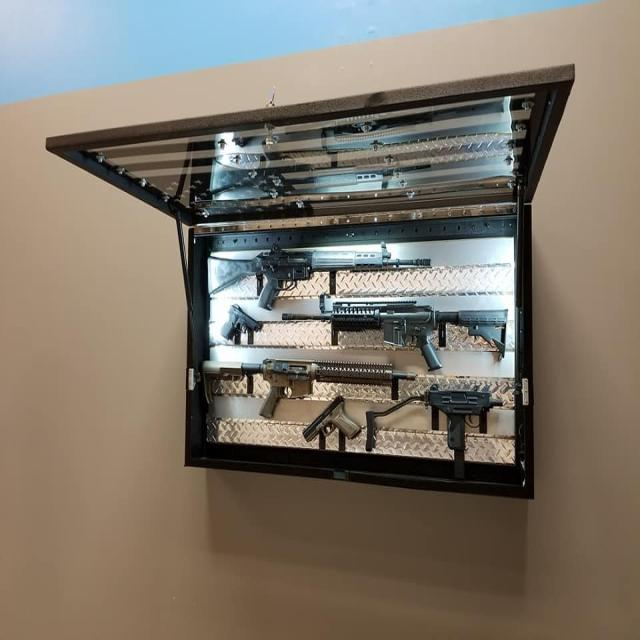HandGun: (303, 396, 361, 443), (221, 305, 263, 340)
Rifle: (281, 301, 508, 372), (208, 244, 431, 311), (203, 358, 394, 420)
SMG: (366, 384, 504, 479)
